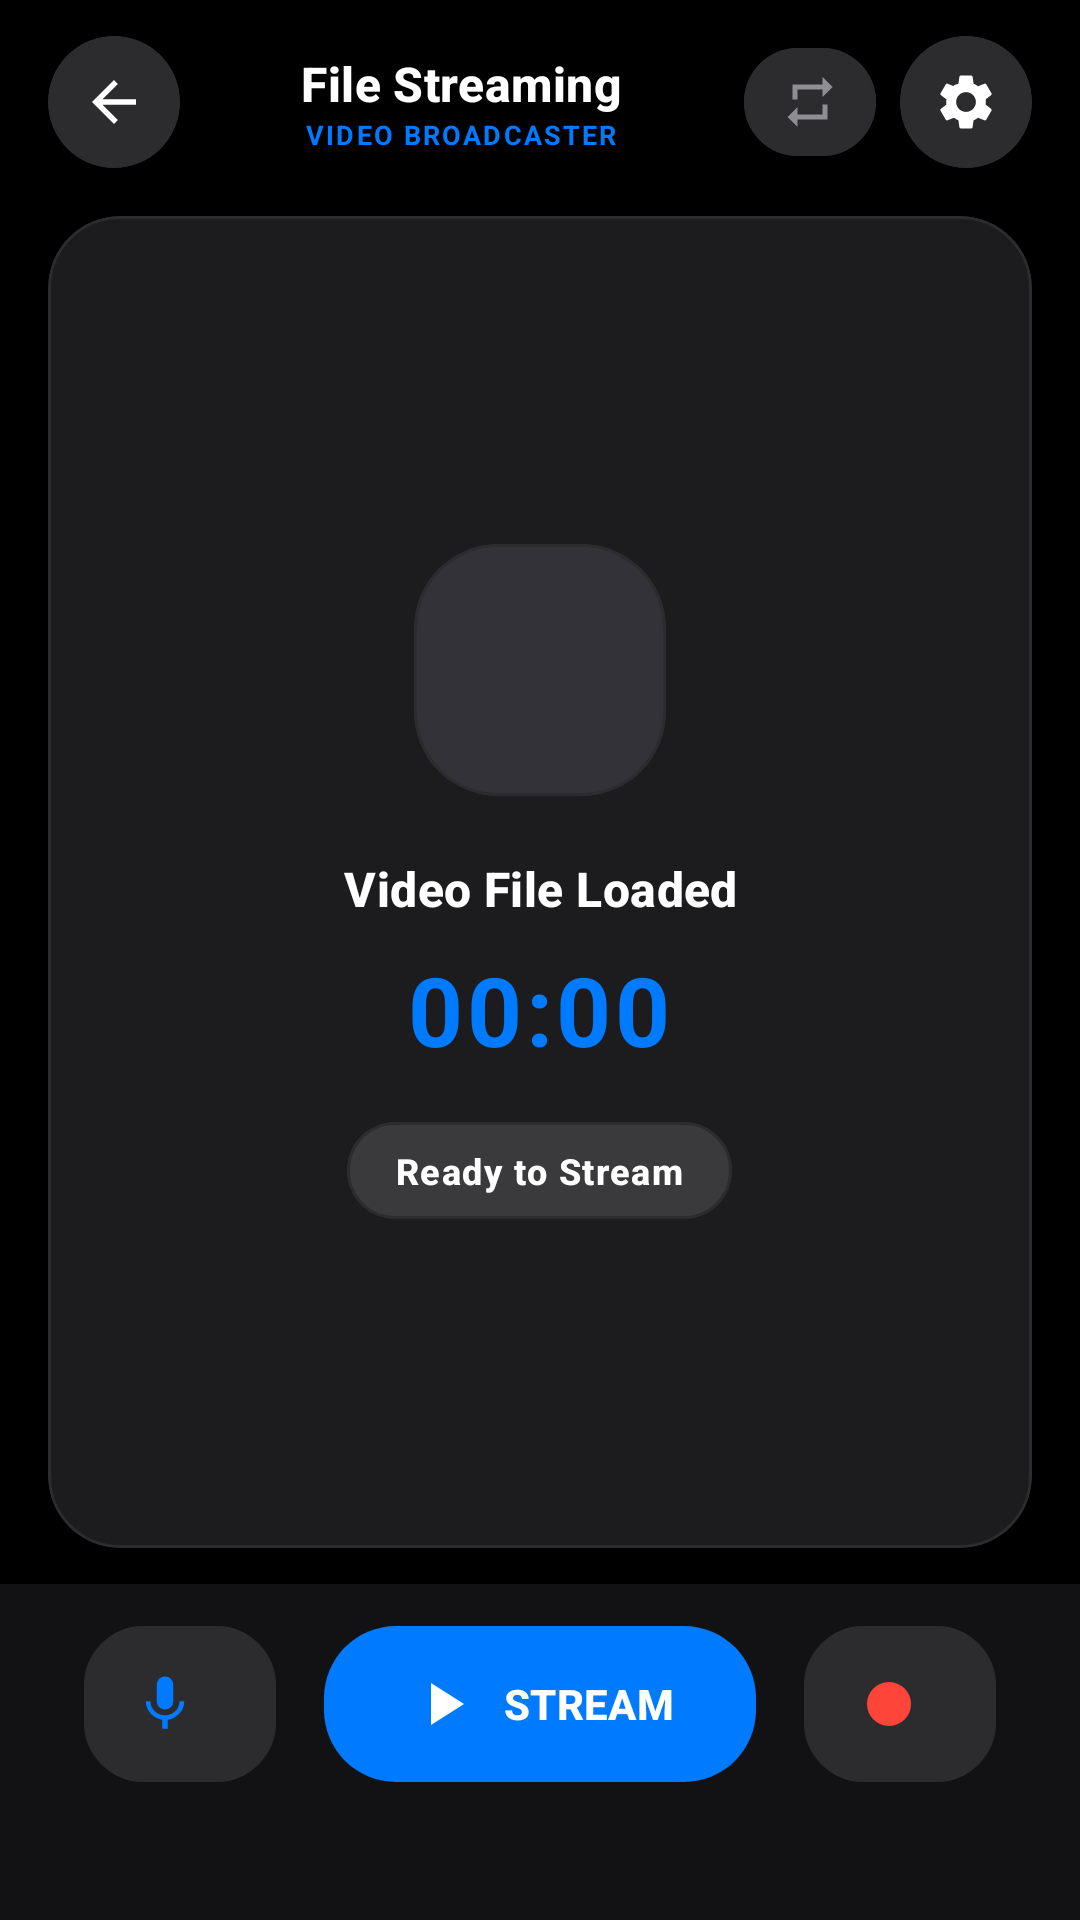

Icons on this 1080px×1920px Android screen, each with its box as (x1, y1, x2, y2):
arrow back: (92, 80, 136, 124)
settings: (940, 75, 992, 129)
Toggle Loop: (744, 48, 876, 156)
